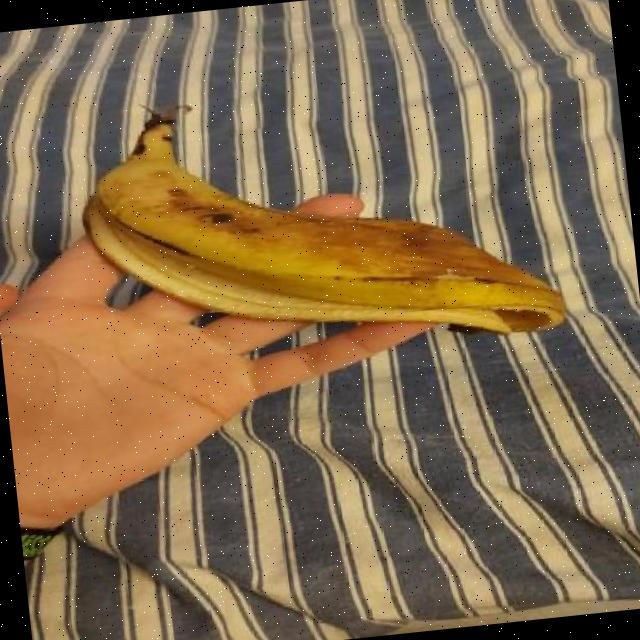banana-peel: (69, 61, 568, 380)
